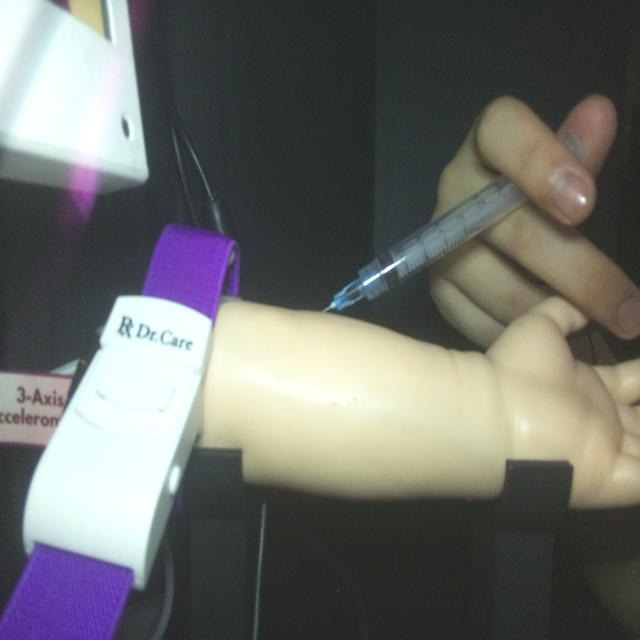24 degrees: (320, 126, 590, 316)
